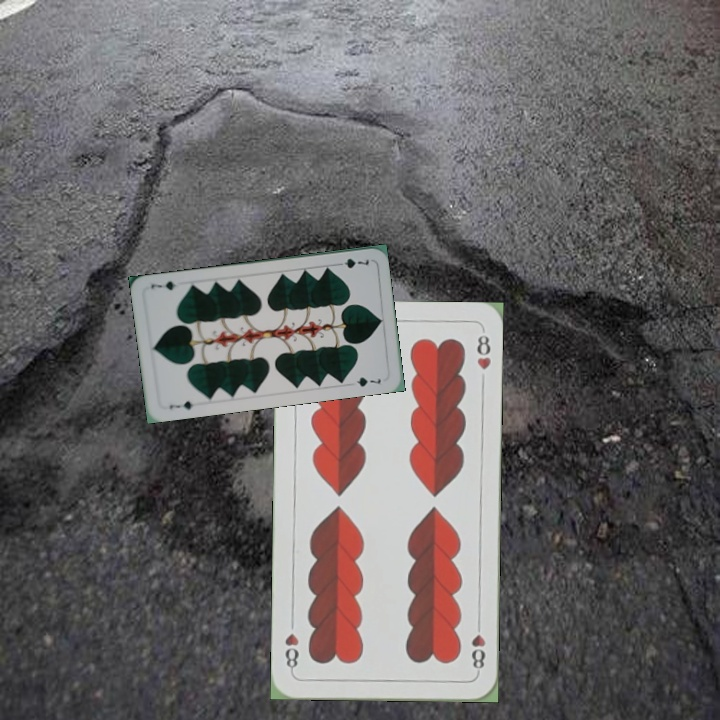G7: (332, 254, 372, 271), (165, 397, 195, 412)
H8: (467, 617, 488, 676)
